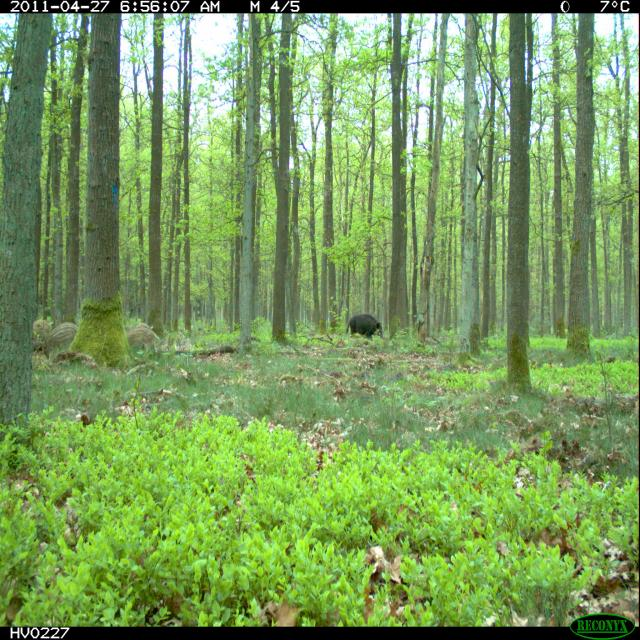boar: (326, 288, 392, 363)
